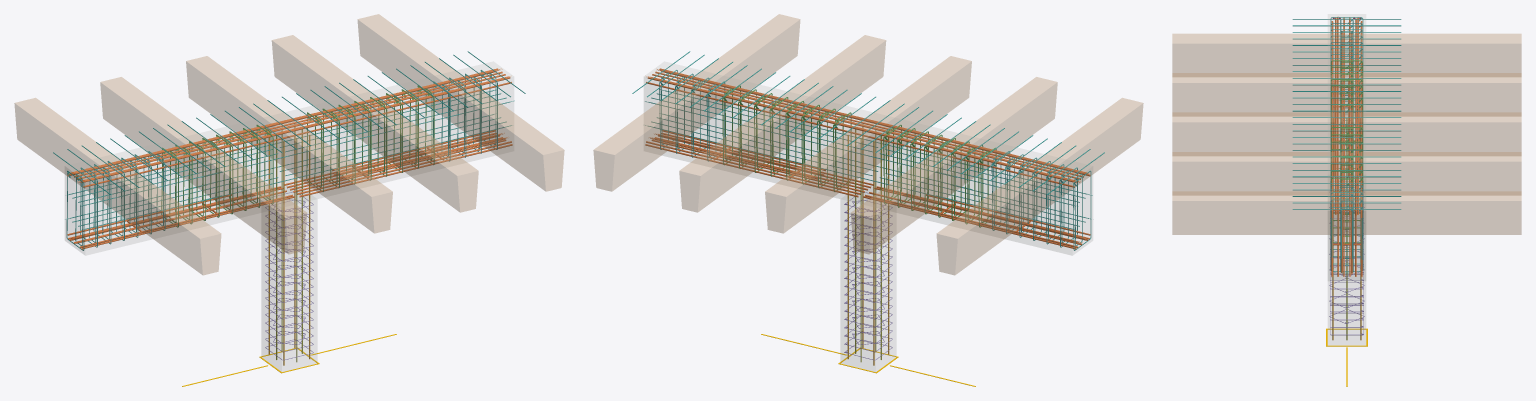
The model's file is unterzug-441-vorort15-ft.glb.
3 renders of one model, left to right at view 1: azimuth 30°, elevation 25°; view 2: azimuth 150°, elevation 25°; view 3: azimuth 270°, elevation 25°, orthographic. The views are drawn at different scales.
Visible parts, largest first — view 1: Beton, Fertigteiltraeger_5, Fertigteiltraeger_1, Fertigteiltraeger_2, Fertigteiltraeger_3, Fertigteiltraeger_4, Pos_23_1, Pos_22_2, Pos_20_2, Pos_21_2, Pos_21_1, Pos_23_2 (+2 smaller); view 2: Beton, Fertigteiltraeger_5, Fertigteiltraeger_1, Fertigteiltraeger_2, Fertigteiltraeger_3, Fertigteiltraeger_4, Pos_22_1, Pos_23_2, Pos_20_1, Pos_21_2, Pos_21_1, Pos_23_1 (+2 smaller); view 3: Fertigteiltraeger_5, Fertigteiltraeger_3, Fertigteiltraeger_4, Fertigteiltraeger_2, Fertigteiltraeger_1, Beton, Pos_20_2, Pos_20_1, Pos_23_1, Pos_22_1, Pos_22_2, Pos_23_2 (+5 smaller).
Part boxes in pixels (bbox=[...]): Beton: bbox=[65, 62, 513, 371]; Fertigteiltraeger_5: bbox=[357, 14, 564, 191]; Fertigteiltraeger_1: bbox=[14, 98, 220, 275]; Fertigteiltraeger_2: bbox=[100, 77, 306, 254]; Fertigteiltraeger_3: bbox=[186, 56, 392, 233]; Fertigteiltraeger_4: bbox=[272, 35, 478, 212]; Pos_23_1: bbox=[67, 68, 502, 175]; Pos_22_2: bbox=[81, 77, 510, 182]; Pos_20_2: bbox=[83, 82, 511, 187]; Pos_21_2: bbox=[76, 74, 505, 179]; Pos_21_1: bbox=[73, 71, 502, 177]; Pos_23_2: bbox=[78, 76, 510, 182]; Beton: bbox=[644, 62, 1092, 371]; Fertigteiltraeger_5: bbox=[593, 14, 800, 191]; Fertigteiltraeger_1: bbox=[937, 98, 1143, 275]; Fertigteiltraeger_2: bbox=[851, 77, 1057, 254]; Fertigteiltraeger_3: bbox=[765, 56, 971, 233]; Fertigteiltraeger_4: bbox=[679, 35, 885, 212]; Pos_22_1: bbox=[647, 77, 1076, 182]; Pos_23_2: bbox=[657, 69, 1089, 175]; Pos_20_1: bbox=[646, 82, 1074, 187]; Pos_21_2: bbox=[655, 71, 1084, 177]; Pos_21_1: bbox=[652, 74, 1081, 179]; Pos_23_1: bbox=[646, 76, 1080, 182]; Fertigteiltraeger_5: bbox=[1172, 191, 1521, 234]; Fertigteiltraeger_3: bbox=[1172, 112, 1521, 155]; Fertigteiltraeger_4: bbox=[1172, 152, 1521, 195]; Fertigteiltraeger_2: bbox=[1172, 73, 1521, 116]; Fertigteiltraeger_1: bbox=[1172, 34, 1521, 76]; Beton: bbox=[1328, 14, 1365, 344]; Pos_20_2: bbox=[1331, 21, 1333, 217]; Pos_20_1: bbox=[1360, 21, 1362, 217]; Pos_23_1: bbox=[1355, 18, 1356, 215]; Pos_22_1: bbox=[1357, 17, 1358, 214]; Pos_22_2: bbox=[1335, 17, 1336, 214]; Pos_23_2: bbox=[1337, 16, 1338, 214].
Bounding box in the file's own units: 6.1 × 3.2 × 4.5.
